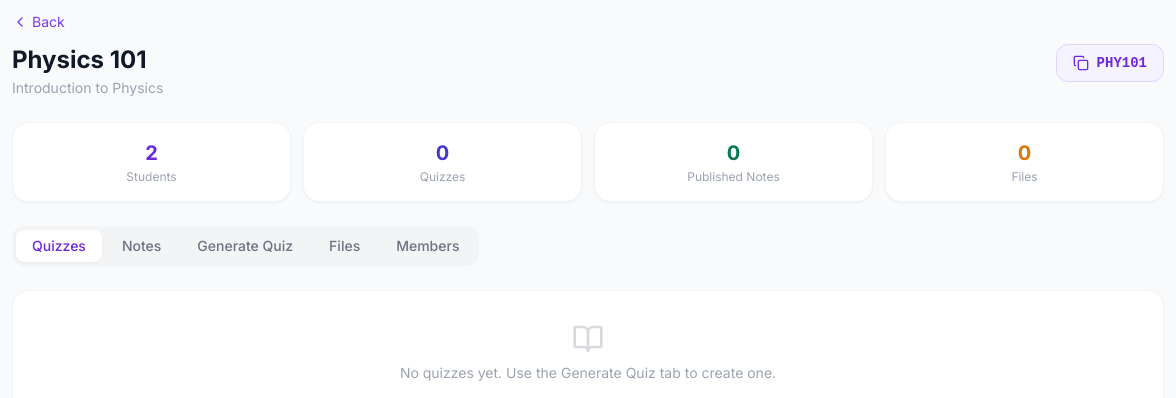
ClassView - FEAT-002 › AC-2.3.3: shows visual feedback (aria-label change) after clicking copy button
Expected: the heading "Physics 101" is shown, [12,44,163,76]
Note: After click: aria-label changes to "Copied class code PHY101" (visual feedback)
Click the button with aria-label "copy class code PHY101" at (1110, 63), box [1056,44,1164,82]
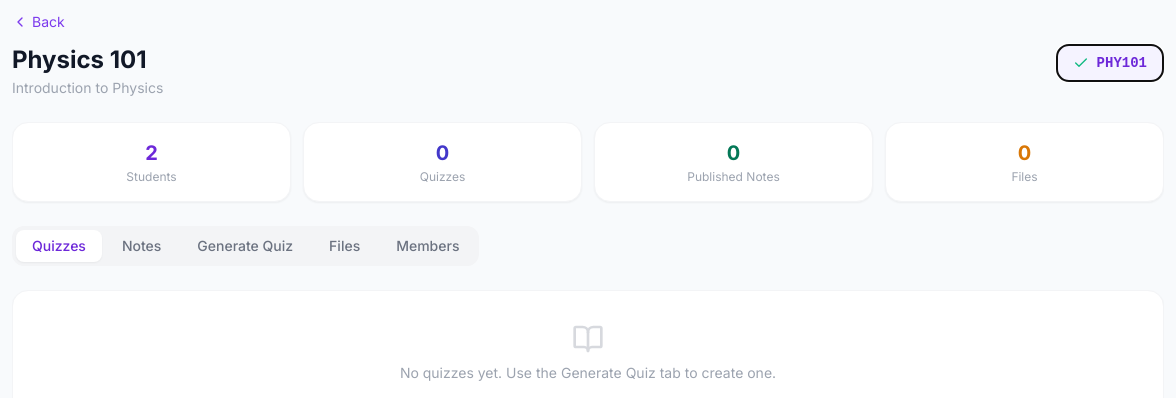
Expected: the button with aria-label "copied class code PHY101" is shown, [1056,44,1164,82]
